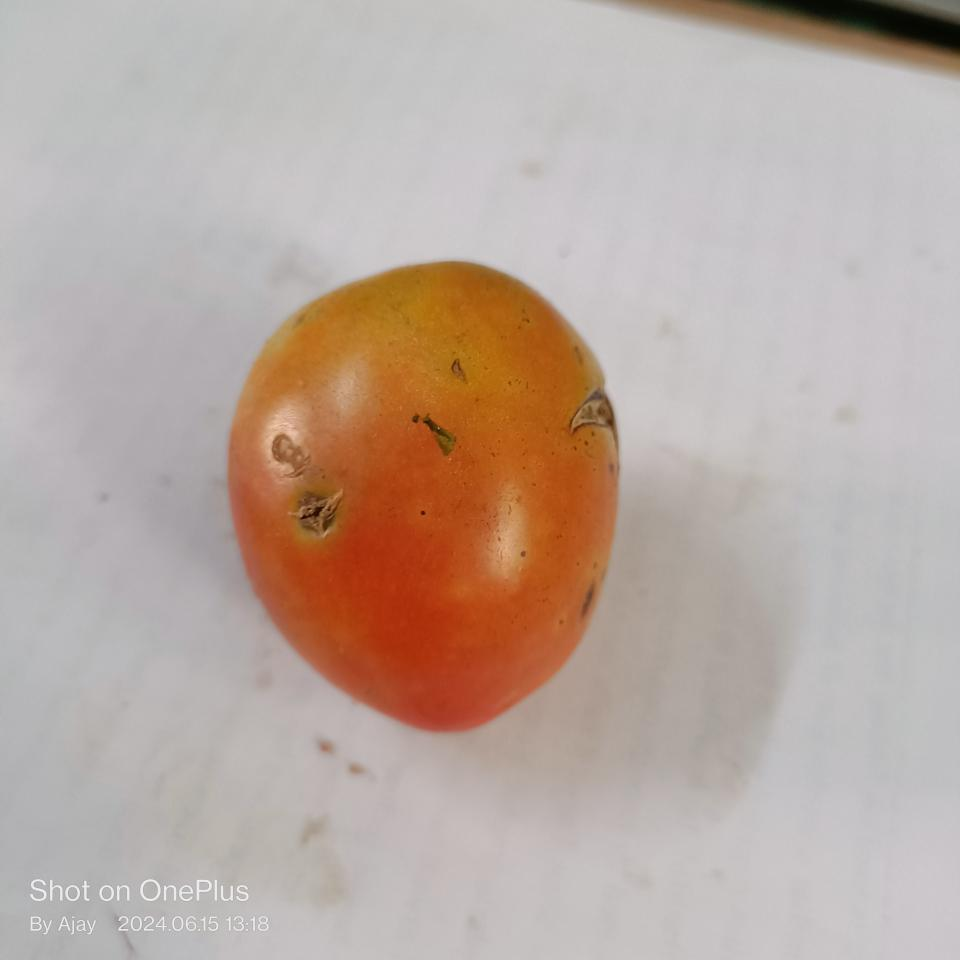Bacterial_Spot: (416, 408, 464, 463), (291, 487, 346, 533), (572, 384, 620, 430)
